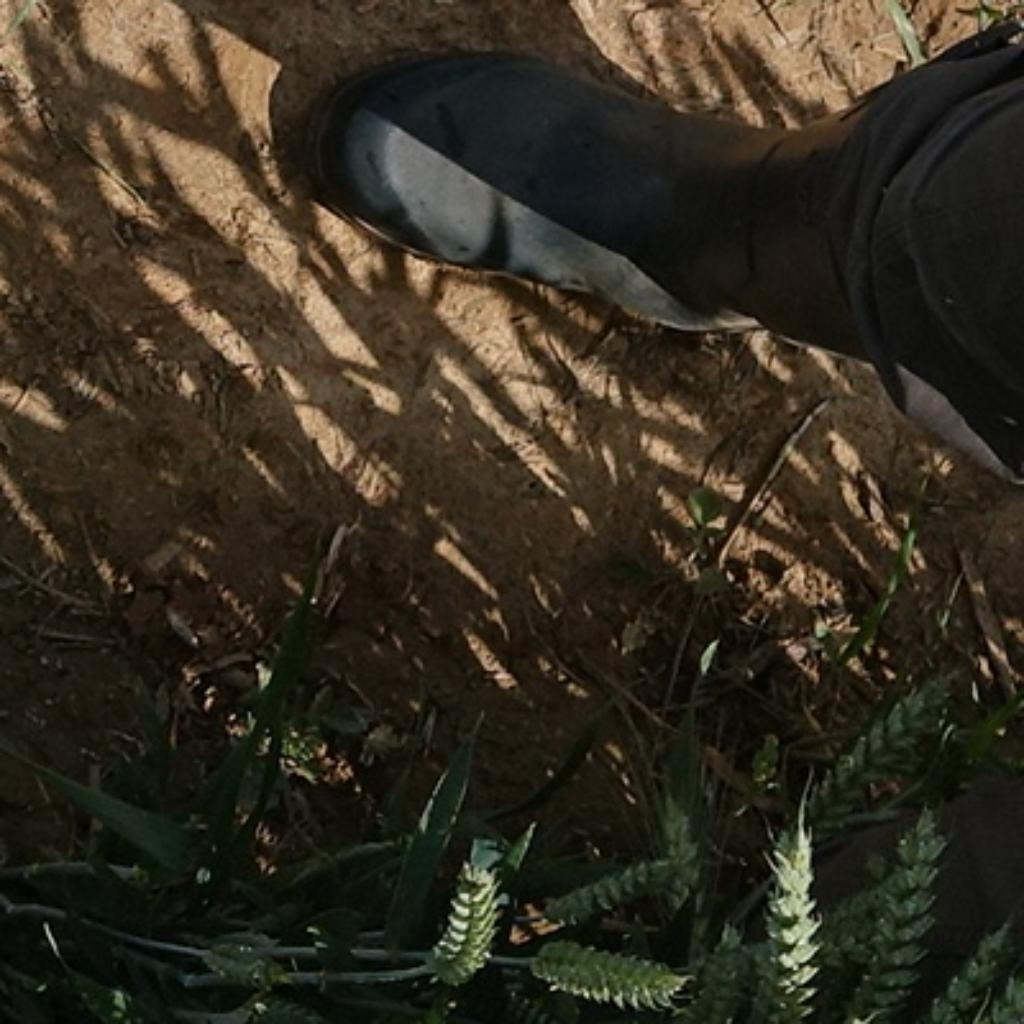0-0: (786, 679, 971, 847), (853, 805, 960, 1023), (419, 823, 518, 990), (748, 808, 817, 1024), (519, 931, 695, 1013), (509, 855, 675, 937), (915, 903, 1022, 1023), (812, 872, 908, 975), (637, 789, 696, 934), (685, 919, 764, 1024), (203, 934, 285, 991), (226, 990, 323, 1024), (749, 724, 785, 792)
